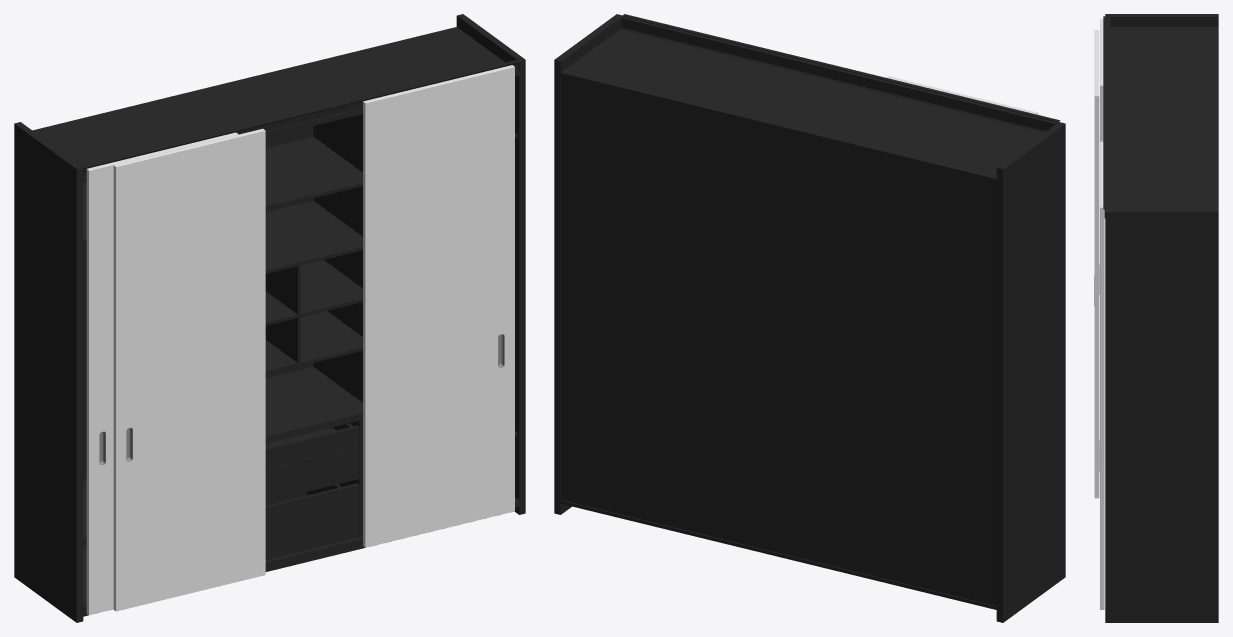
File: Wardrobe 1.FBX
3 views of the same model, side by side, from view 1: azimuth 30°, elevation 25°; view 2: azimuth 150°, elevation 25°; view 3: azimuth 270°, elevation 25° (orthographic). The views are drawn at different scales.
Parts seen in each view (by area): view 1: wardrobe 1, door B, door C, door A; view 2: wardrobe 1; view 3: wardrobe 1, door B, door C, door A.
Boxes of the visible parts, x1,y1,x2,y2 form: wardrobe 1: (14, 14, 525, 622); door B: (113, 128, 265, 611); door C: (363, 65, 514, 547); door A: (86, 132, 238, 615); wardrobe 1: (554, 14, 1065, 622); wardrobe 1: (1103, 14, 1218, 622); door B: (1094, 30, 1099, 498); door C: (1099, 141, 1104, 609); door A: (1099, 19, 1103, 294).
Size of the model in its own units: 238 by 231 by 63.29.
4 materials, 2 textured.
